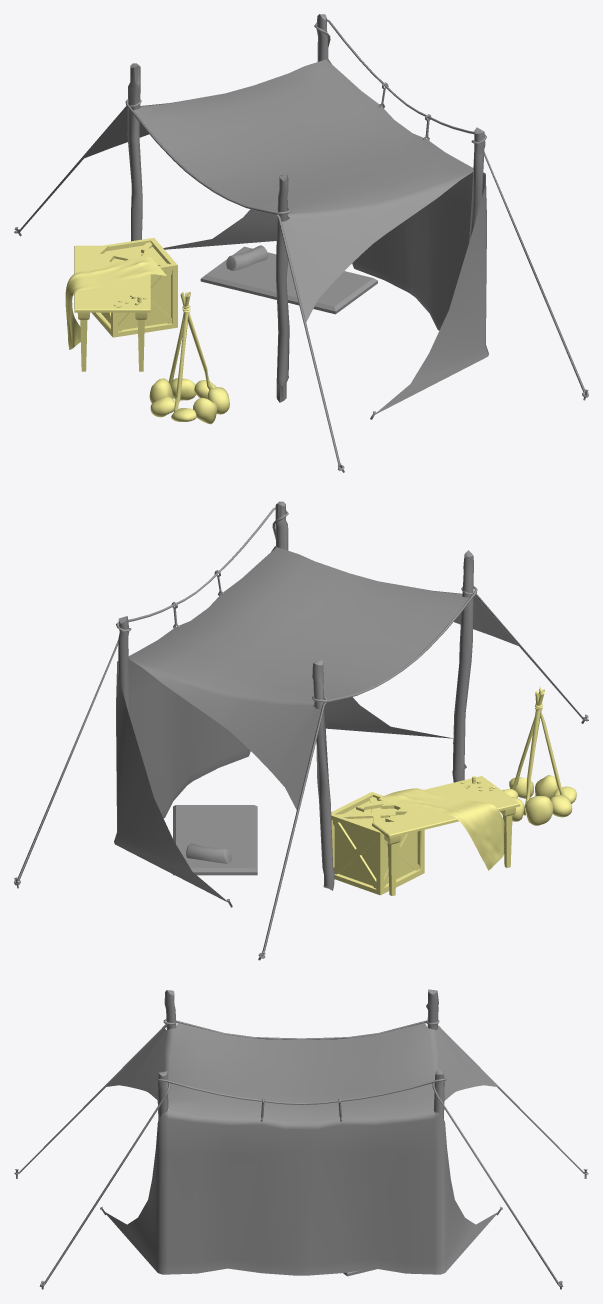
Rendered from Camp.fbx.
3 views of the same model, one above another, from view 1: azimuth 30°, elevation 25°; view 2: azimuth 150°, elevation 25°; view 3: azimuth 270°, elevation 25° (orthographic). The views are drawn at different scales.
Visible parts, largest first — view 1: Tent, Table/Fire; view 2: Tent, Table/Fire; view 3: Tent.
Boxes of the visible parts, left/top/right/bottom form: Tent: left=14, top=14, right=588, bottom=472; Table/Fire: left=65, top=238, right=229, bottom=424; Tent: left=14, top=501, right=588, bottom=960; Table/Fire: left=331, top=686, right=576, bottom=895; Tent: left=14, top=989, right=588, bottom=1289.
Bounding box in the file's own units: 113 × 69.55 × 176.
